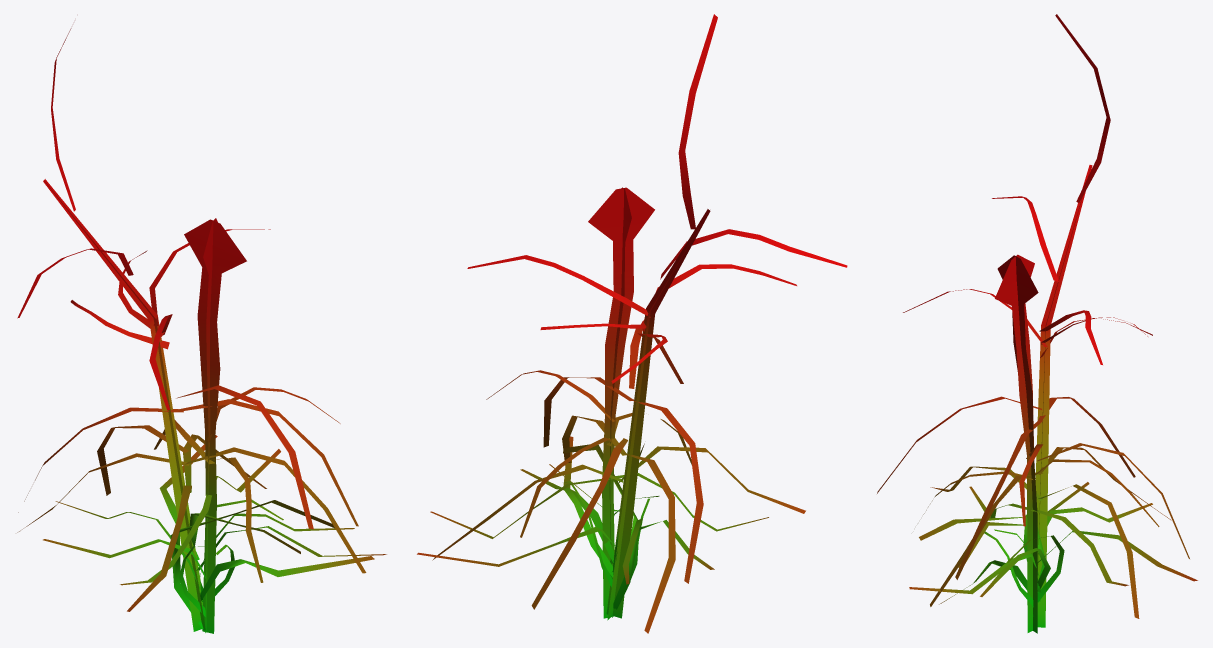
The model's file is Var6_LOD2.fbx.
3 renders of one model, left to right at view 1: azimuth 30°, elevation 25°; view 2: azimuth 150°, elevation 25°; view 3: azimuth 270°, elevation 25°, orthographic. The views are drawn at different scales.
Visible parts, largest first — view 1: _3772_Var6_LOD2; view 2: _3772_Var6_LOD2; view 3: _3772_Var6_LOD2.
Boxes of the visible parts, x1,y1,x2,y2 form: _3772_Var6_LOD2: (17, 28, 386, 633); _3772_Var6_LOD2: (417, 14, 847, 633); _3772_Var6_LOD2: (877, 14, 1197, 633).
Bounding box in the file's own units: 14.96 × 26.72 × 13.74.
